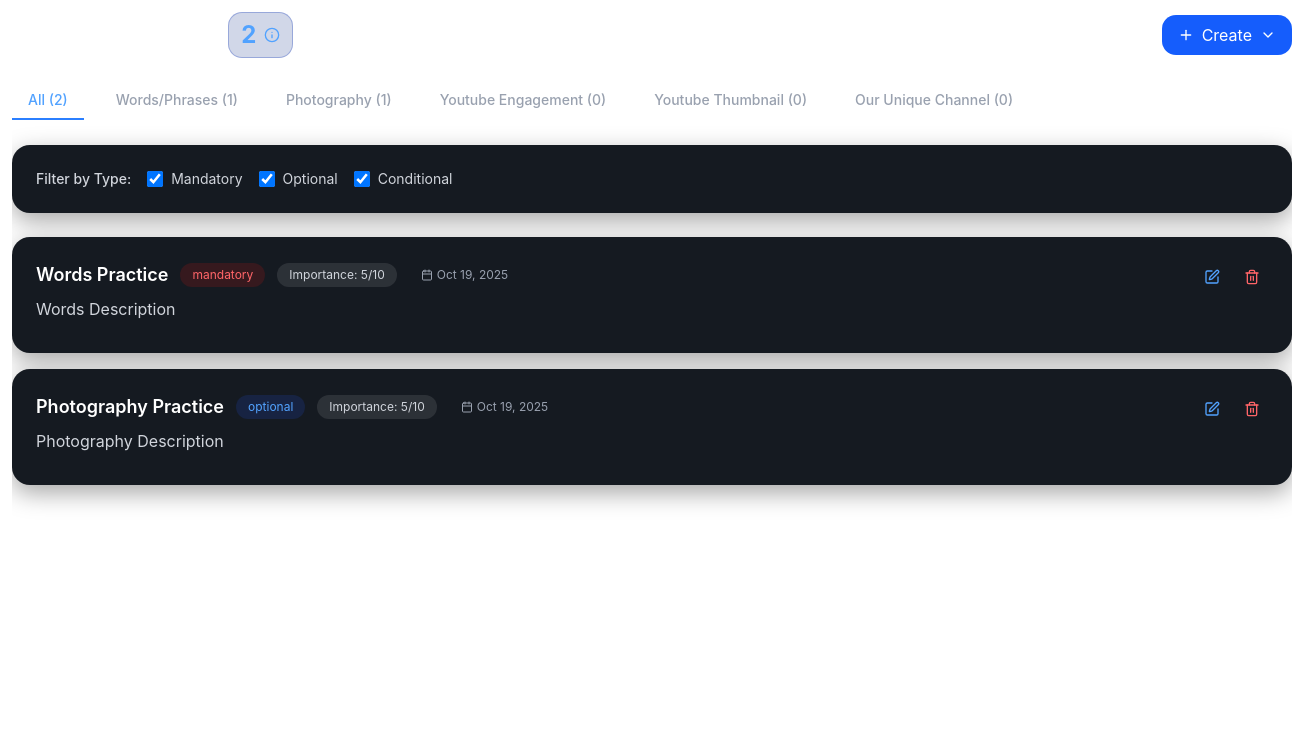
it: BestPracticesTab › should filter practices by category when subtab is clicked
Expected: the heading "Words Practice" is shown, [36, 261, 168, 289]
Expected: the heading "Photography Practice" is shown, [36, 393, 224, 421]
Click the button "Words/Phrases (1)": x=177, y=101 [100, 82, 254, 120]
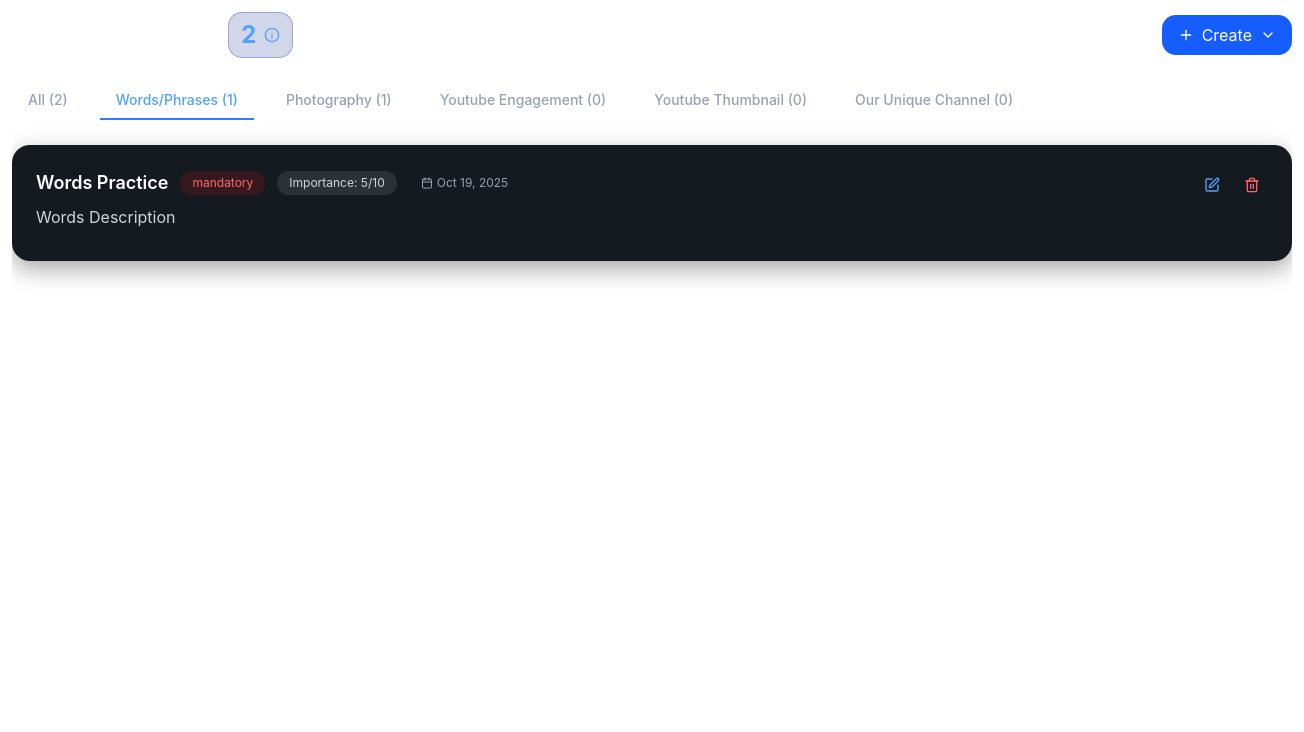
Expected: the heading "Words Practice" is shown, [36, 169, 168, 197]
Result: the heading "Photography Practice" is gone
